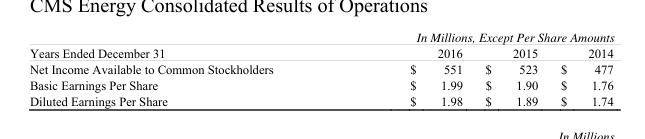table: (28, 28, 613, 107)
table column: (28, 28, 340, 107), (340, 28, 473, 107), (473, 28, 548, 107), (548, 28, 613, 107)
table column header: (28, 28, 613, 60)
table row: (28, 28, 613, 44), (28, 44, 613, 60), (28, 60, 613, 76), (28, 76, 613, 92), (28, 92, 613, 107)
table spanning cell: (28, 28, 340, 60), (340, 28, 613, 44)
